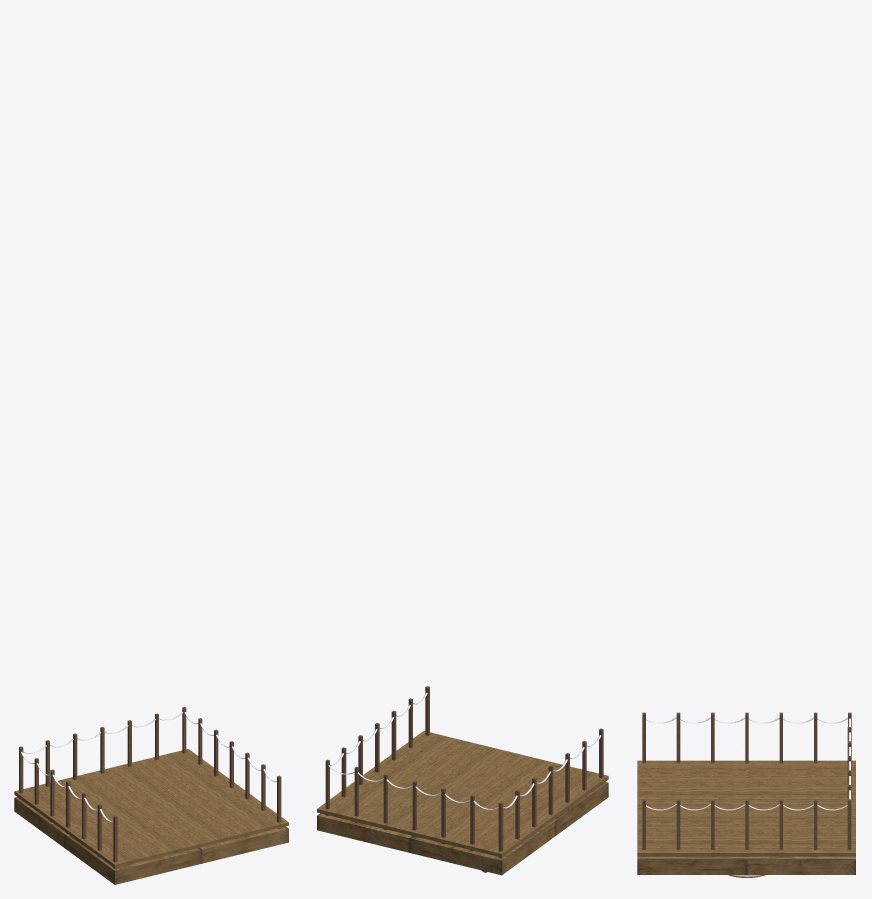
3 views of the same model, side by side, from view 1: azimuth 30°, elevation 25°; view 2: azimuth 150°, elevation 25°; view 3: azimuth 270°, elevation 25° (orthographic). The views are drawn at different scales.
Visible parts, largest first — view 1: Base, Pillar 1.002, Sides Ribbon; view 2: Base, Pillar 1.002, Sides Ribbon; view 3: Base, Pillar 1.002, Sides Ribbon.
Part boxes in pixels (<box>): Base: <box>14,749,288,884</box>; Pillar 1.002: <box>19,707,281,868</box>; Sides Ribbon: <box>21,712,276,822</box>; Base: <box>317,731,608,875</box>; Pillar 1.002: <box>325,686,603,858</box>; Sides Ribbon: <box>328,692,601,809</box>; Base: <box>637,760,855,874</box>; Pillar 1.002: <box>642,712,851,856</box>; Sides Ribbon: <box>646,717,850,810</box>.
Bounding box in the file's own units: 19.88 × 86.6 × 19.74.
7 materials, 7 textured.
